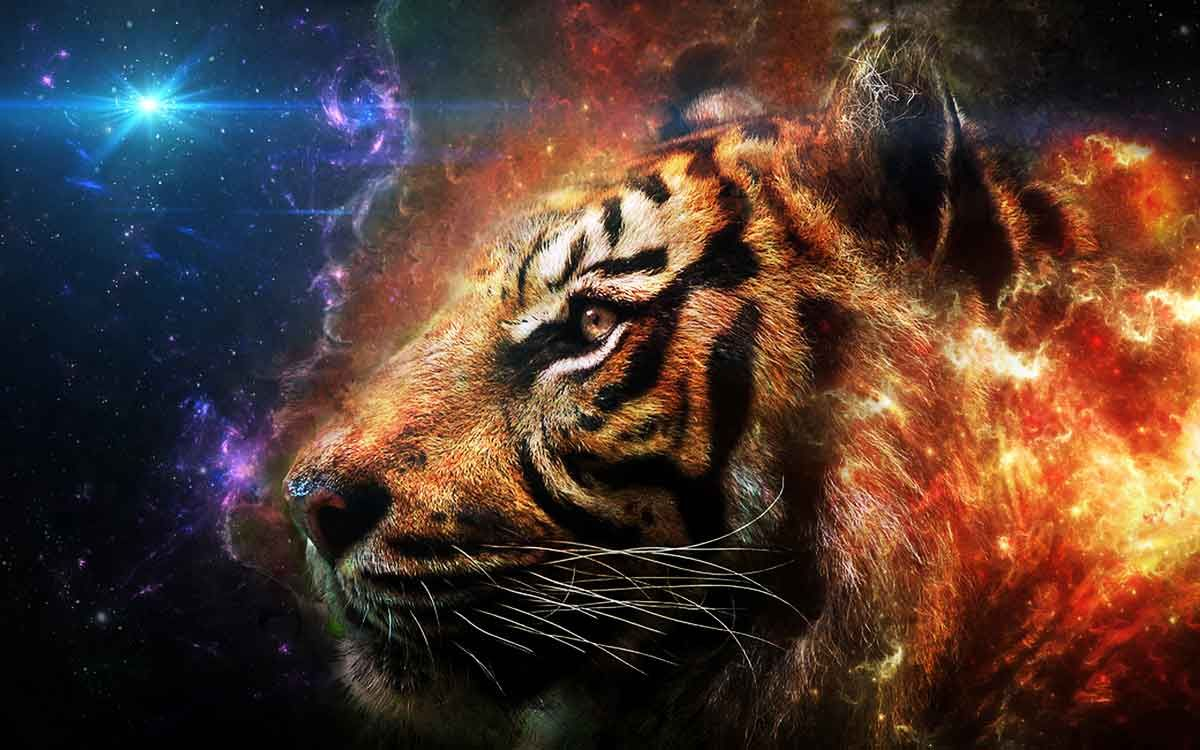Tigrew: (187, 29, 1120, 691)
